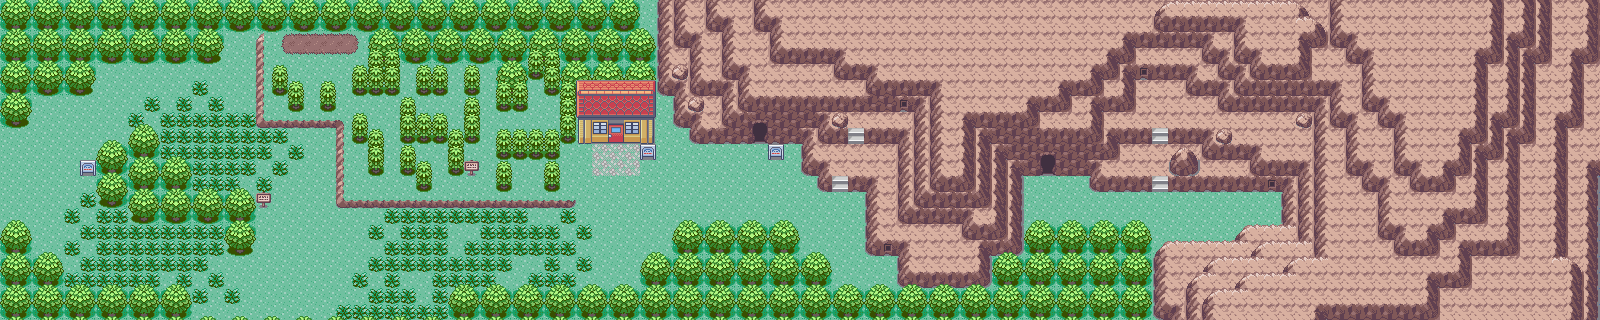cave: (730, 101, 790, 148), (1017, 134, 1077, 179)
normal_house: (574, 78, 660, 150)
